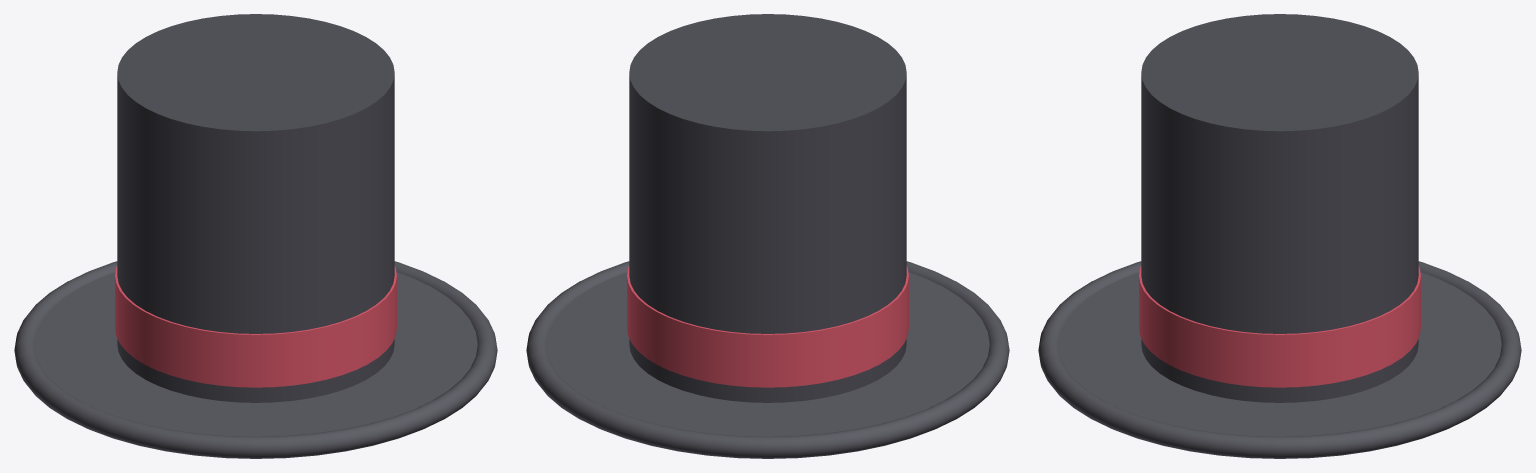
File: top-hat.glb
The picture shows the model from 3 angles, left to right: view 1: azimuth 30°, elevation 25°; view 2: azimuth 150°, elevation 25°; view 3: azimuth 270°, elevation 25°; orthographic projection.
Size of the model in its own units: 21.6 by 14.2 by 21.6.
